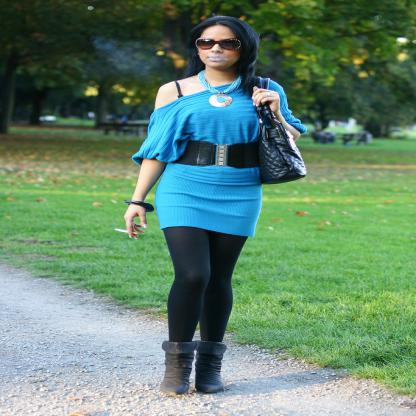smoking: (114, 229, 138, 234)
